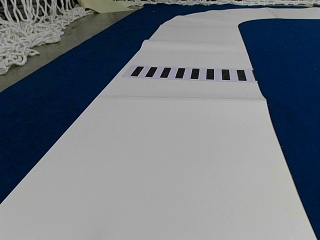crosswalk: (130, 64, 245, 81)
